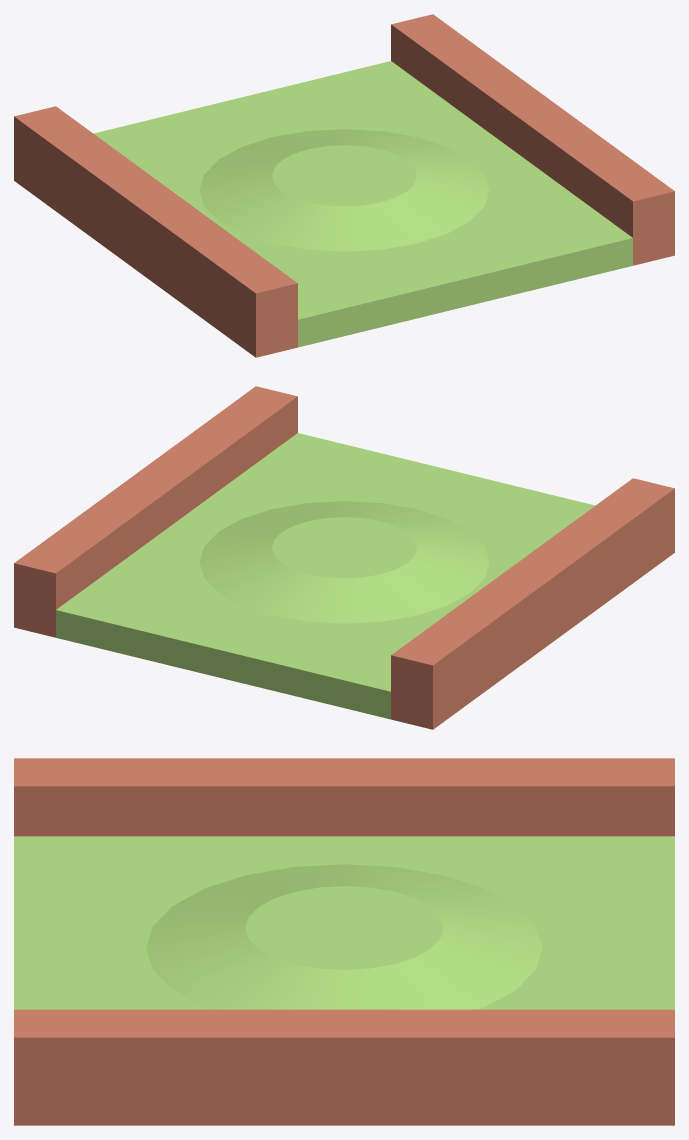
Rendered from Bump_walls_01.glb.
3 views of the same model, one above another, from view 1: azimuth 30°, elevation 25°; view 2: azimuth 150°, elevation 25°; view 3: azimuth 270°, elevation 25° (orthographic). The views are drawn at different scales.
Visible parts, largest first — view 1: Mesh1 Bump_walls Model; view 2: Mesh1 Bump_walls Model; view 3: Mesh1 Bump_walls Model.
Part boxes in pixels (x1,y1,x2,y2): Mesh1 Bump_walls Model: (14,14,674,357); Mesh1 Bump_walls Model: (14,386,674,729); Mesh1 Bump_walls Model: (14,758,674,1125).
Size of the model in its own units: 3 by 0.44 by 3.
